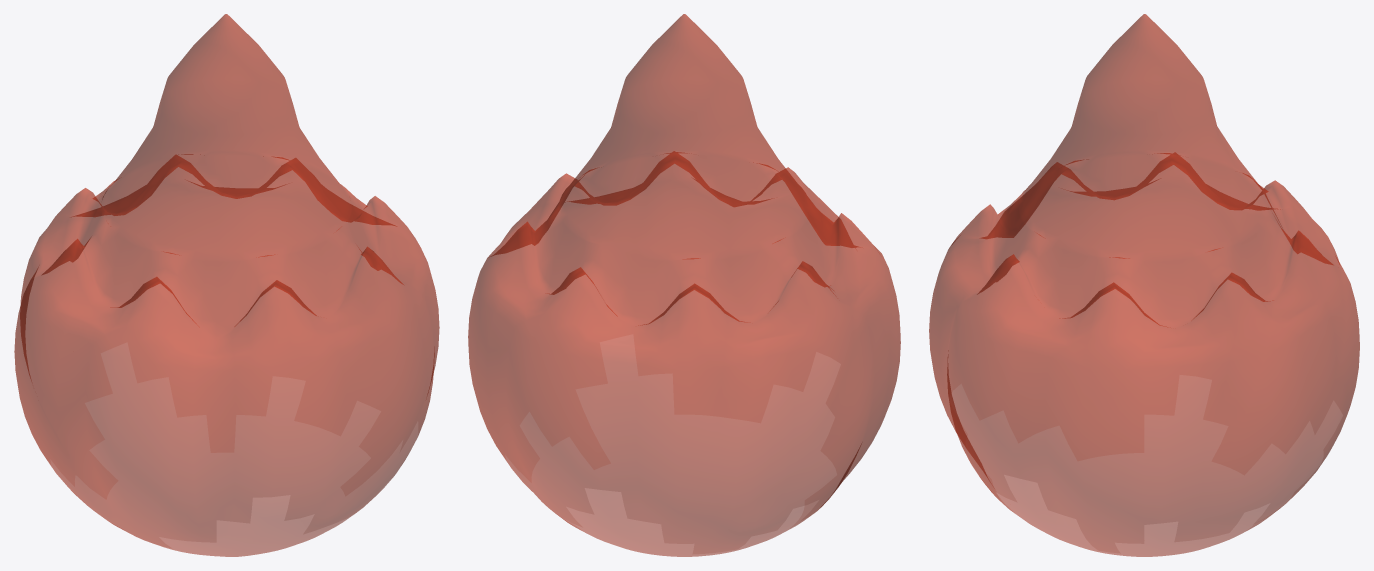
File: Flame.FBX
The picture shows the model from 3 angles, left to right: view 1: azimuth 30°, elevation 25°; view 2: azimuth 150°, elevation 25°; view 3: azimuth 270°, elevation 25°; orthographic projection.
Parts seen in each view (by area): view 1: Sphere002; view 2: Sphere002; view 3: Sphere002.
Part boxes in pixels (x1,y1,x2,y2): Sphere002: (14, 14, 439, 556); Sphere002: (468, 14, 900, 556); Sphere002: (929, 14, 1359, 556).
Size of the model in its own units: 0.9856 by 1.32 by 0.9856.
